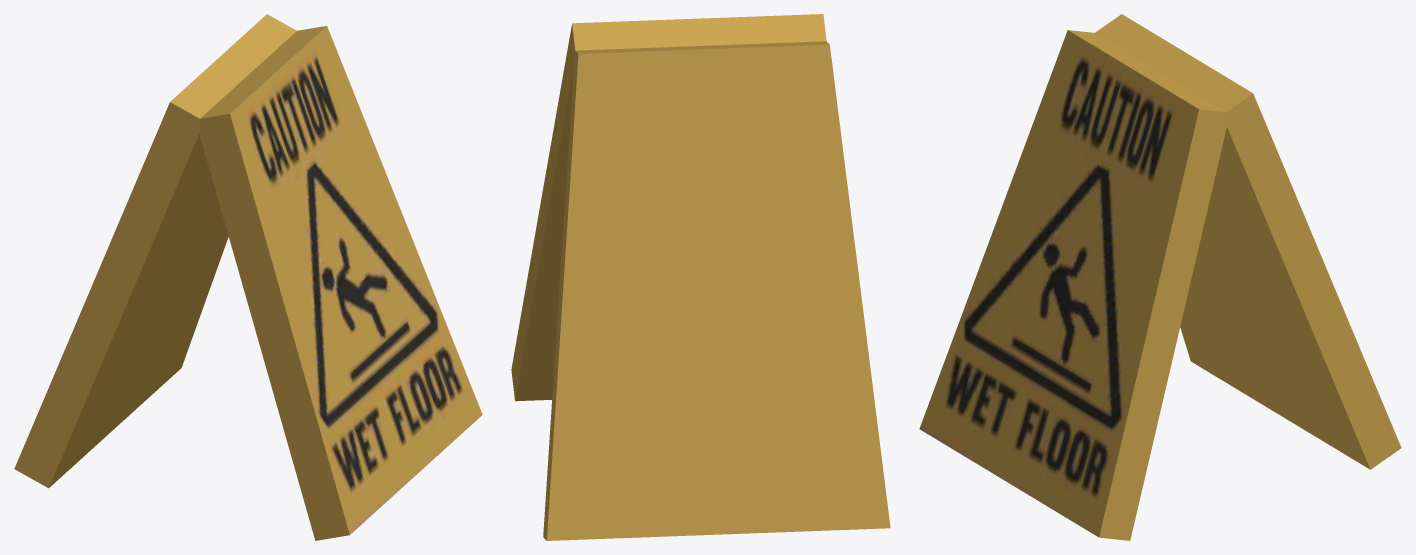
File: Wet_Floor.fbx
3 renders of one model, left to right at view 1: azimuth 30°, elevation 25°; view 2: azimuth 150°, elevation 25°; view 3: azimuth 270°, elevation 25°, orthographic. The views are drawn at different scales.
Parts seen in each view (by area): view 1: Cube.009; view 2: Cube.009; view 3: Cube.009.
Part boxes in pixels (box(x1,y1,x2,y2)): Cube.009: box(14, 14, 482, 540); Cube.009: box(511, 14, 890, 540); Cube.009: box(919, 14, 1401, 540).
Bounding box in the file's own units: 5.75 × 5.28 × 5.92.
